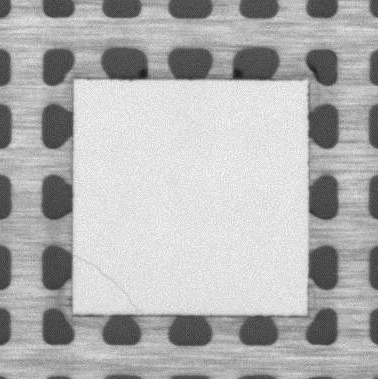DIE_CRACK: (75, 257, 138, 308)
